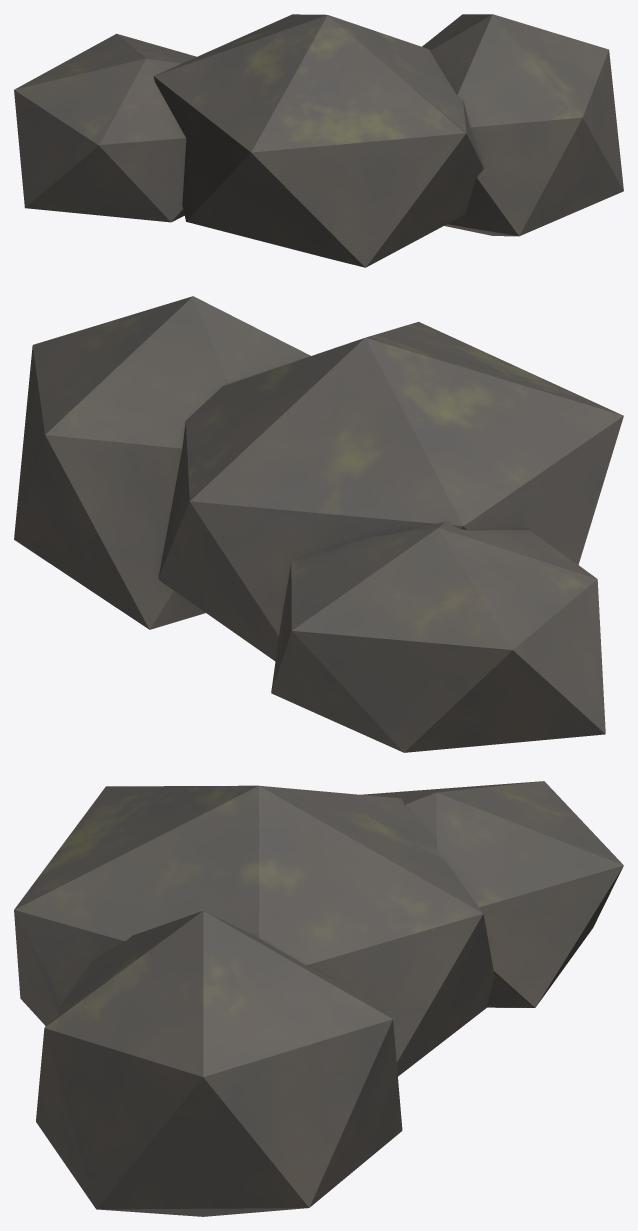
Rendered from rocha_agua.glb.
3 renders of one model, top to bottom at view 1: azimuth 30°, elevation 25°; view 2: azimuth 150°, elevation 25°; view 3: azimuth 270°, elevation 25°, orthographic. The views are drawn at different scales.
Visible parts, largest first — view 1: rocha_agua; view 2: rocha_agua; view 3: rocha_agua.
Part boxes in pixels (box(x1,y1,x2,y2)): rocha_agua: box(14, 14, 623, 267); rocha_agua: box(14, 296, 623, 752); rocha_agua: box(14, 781, 623, 1216).
Size of the model in its own units: 0.7666 by 0.3571 by 0.5869.
1 material, 1 textured.
